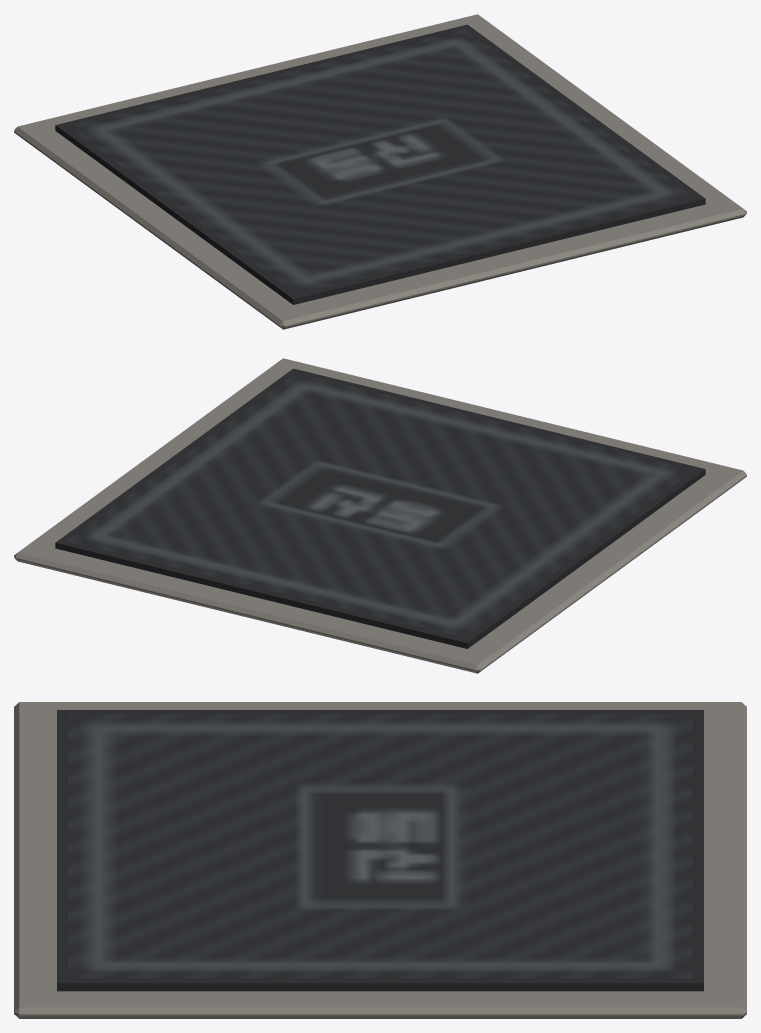
File: SC_Util_Manhole_Telecom.gltf
3 renders of one model, top to bottom at view 1: azimuth 30°, elevation 25°; view 2: azimuth 150°, elevation 25°; view 3: azimuth 270°, elevation 25°, orthographic. The views are drawn at different scales.
Visible parts, largest first — view 1: SC_Util_Manhole_Telecom; view 2: SC_Util_Manhole_Telecom; view 3: SC_Util_Manhole_Telecom.
Part boxes in pixels (x1,y1,x2,y2): SC_Util_Manhole_Telecom: (14, 14, 746, 329); SC_Util_Manhole_Telecom: (14, 358, 746, 673); SC_Util_Manhole_Telecom: (14, 702, 746, 1018).
Bounding box in the file's own units: 0.68 × 0.0205 × 0.68.
2 materials, 2 textured.
